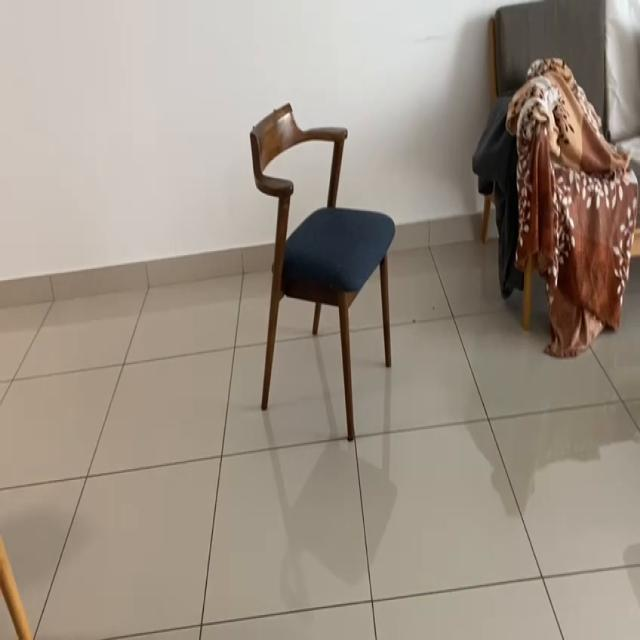Chair: (236, 90, 409, 453)
